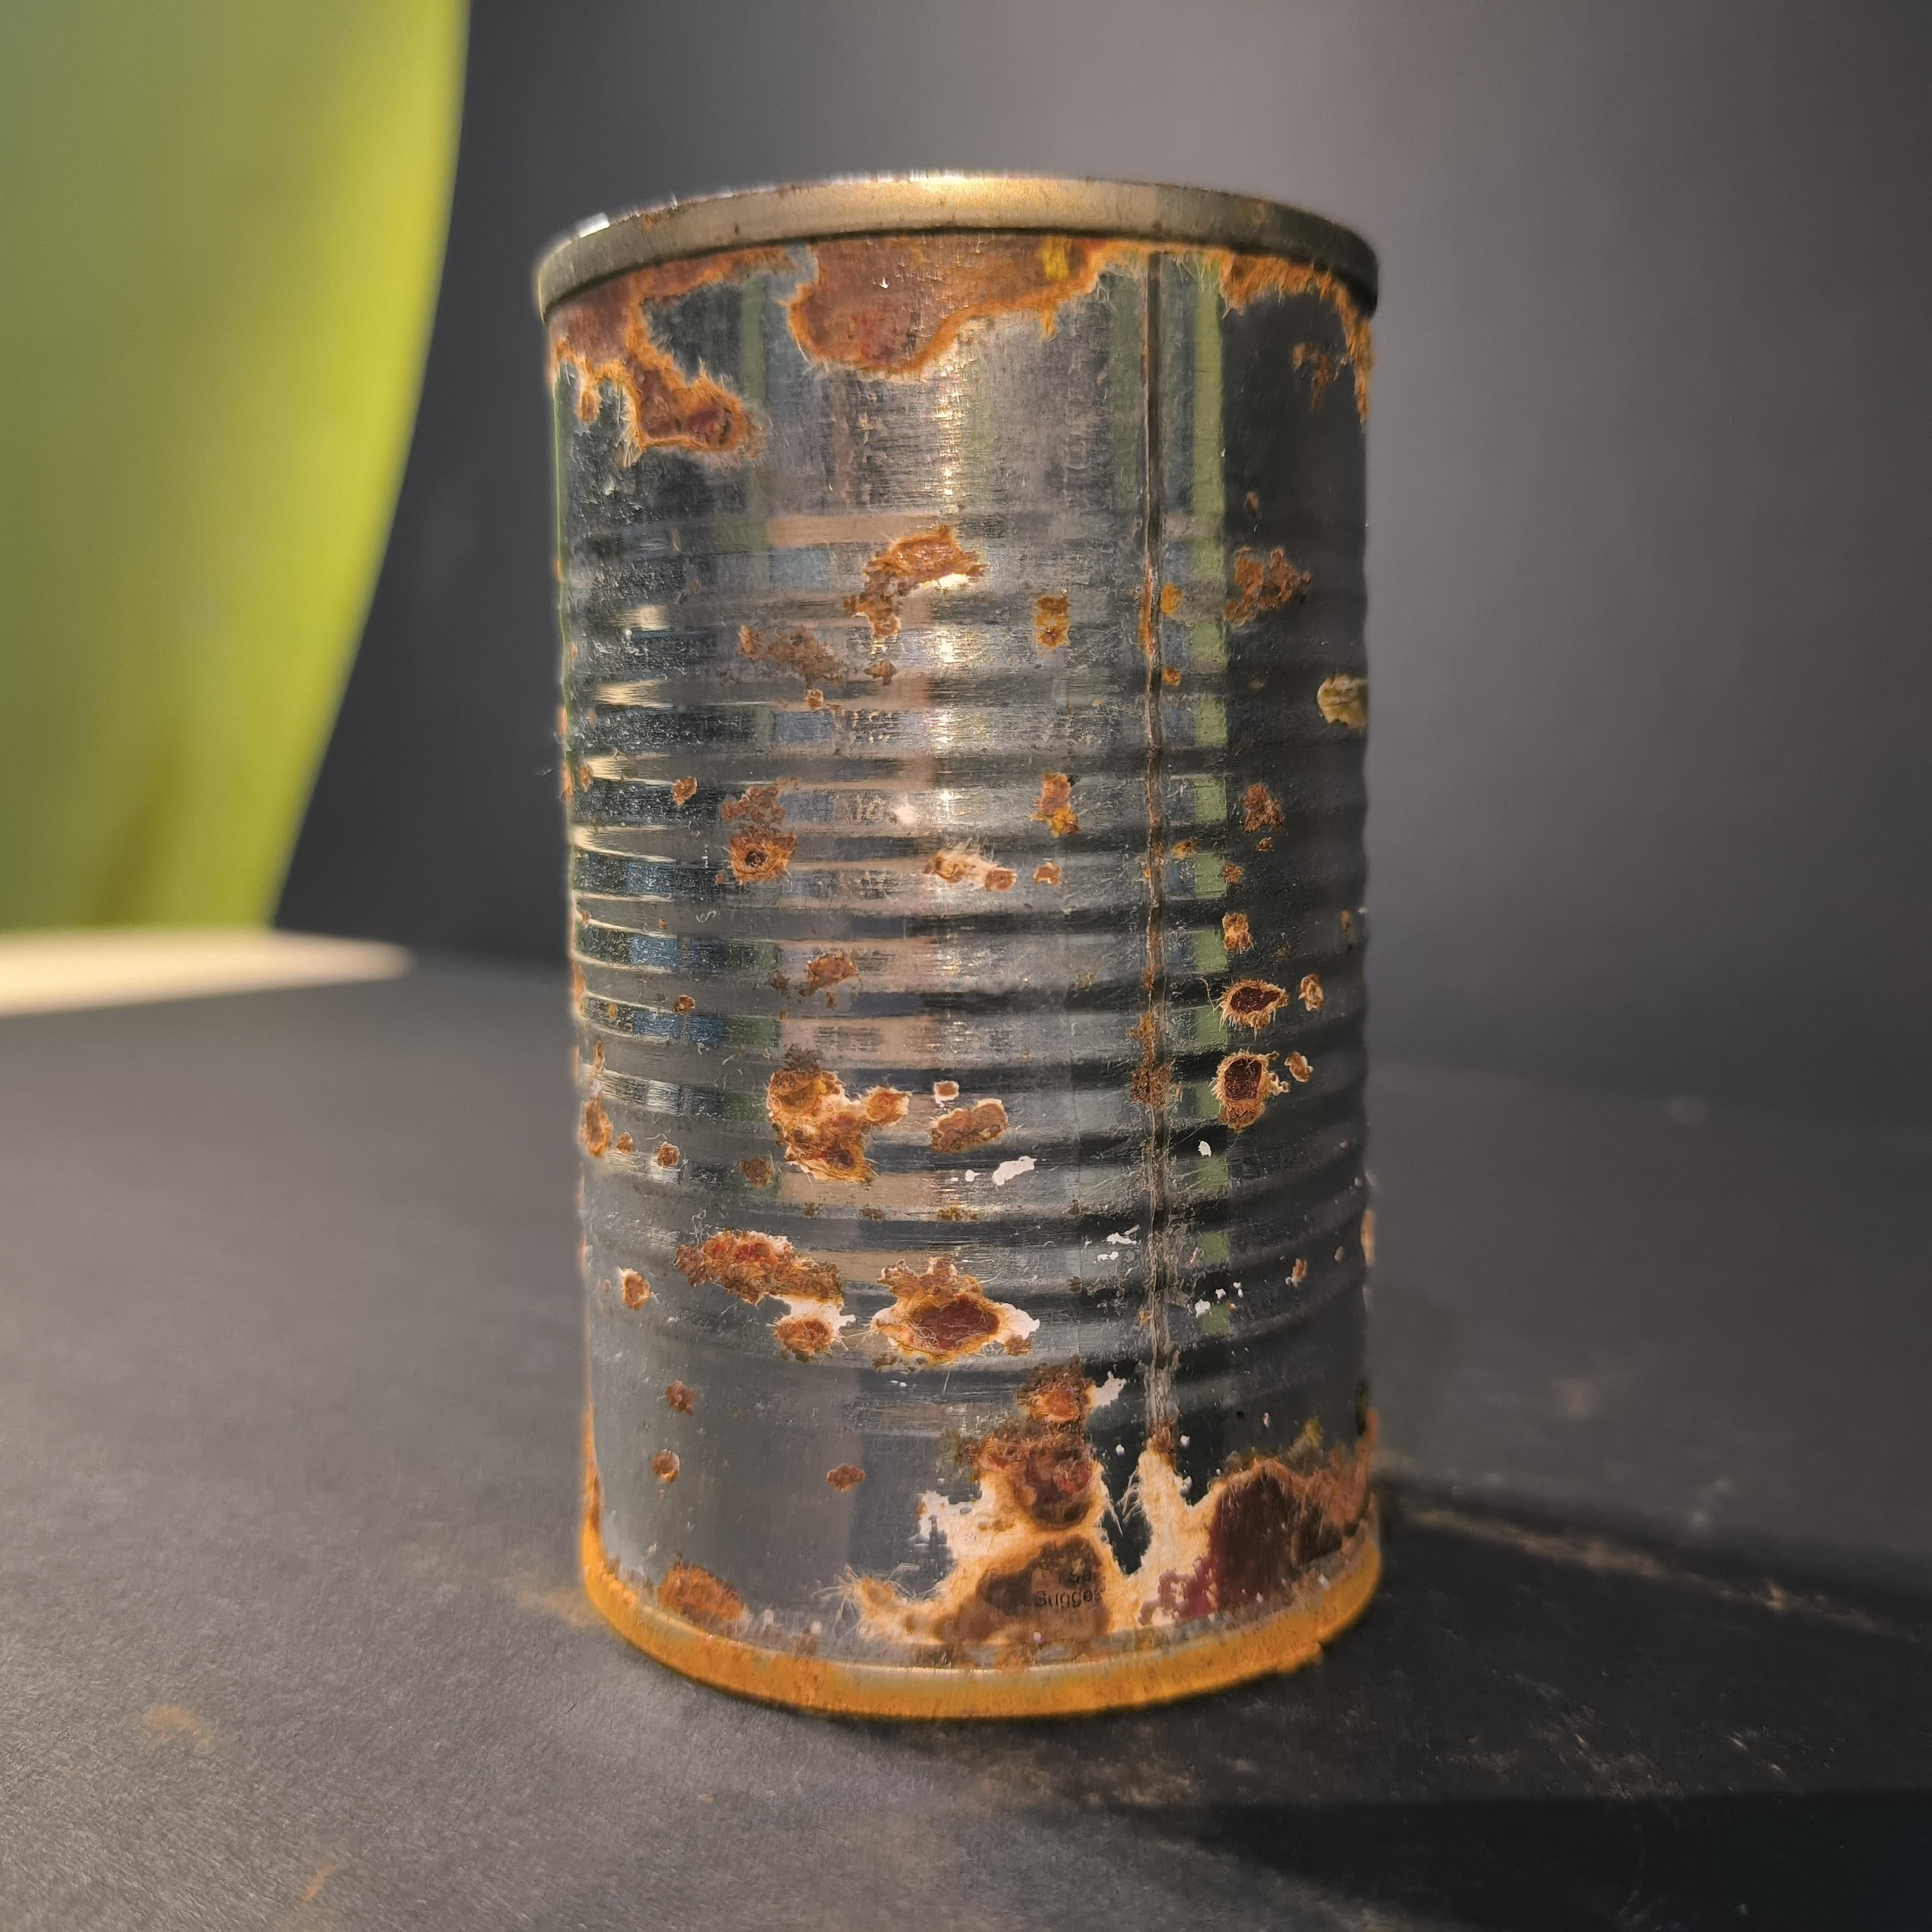Rusted: (497, 147, 1430, 1764)
